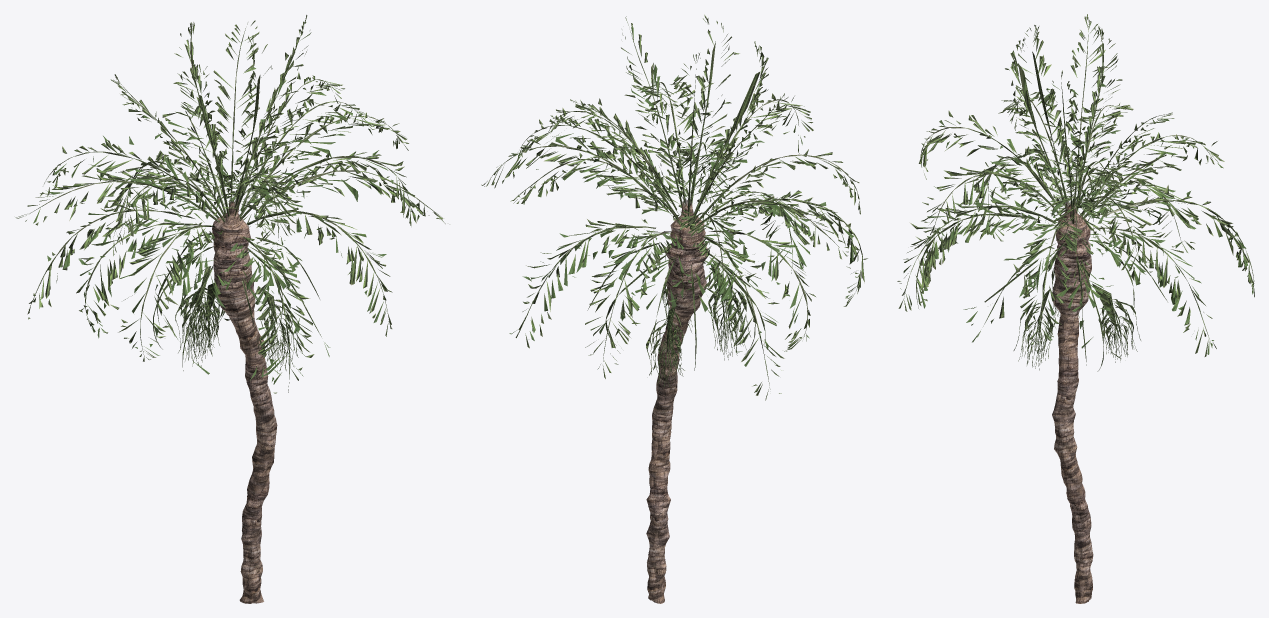
The model's file is palma_lo.glb.
3 renders of one model, left to right at view 1: azimuth 30°, elevation 25°; view 2: azimuth 150°, elevation 25°; view 3: azimuth 270°, elevation 25°, orthographic. The views are drawn at different scales.
Parts seen in each view (by area): view 1: leaf, bark, frond; view 2: leaf, bark, frond; view 3: leaf, bark, frond.
Boxes of the visible parts, bbox=[...] form: leaf: bbox=[15, 15, 445, 393]; bark: bbox=[211, 200, 277, 603]; frond: bbox=[33, 20, 393, 384]; leaf: bbox=[481, 14, 867, 400]; bark: bbox=[646, 202, 709, 603]; frond: bbox=[496, 26, 858, 369]; leaf: bbox=[897, 14, 1254, 371]; bark: bbox=[1052, 203, 1093, 603]; frond: bbox=[900, 46, 1253, 354].
Size of the model in its own units: 0.6902 by 1 by 0.5851.
Materials: 4 (4 with a texture image).
